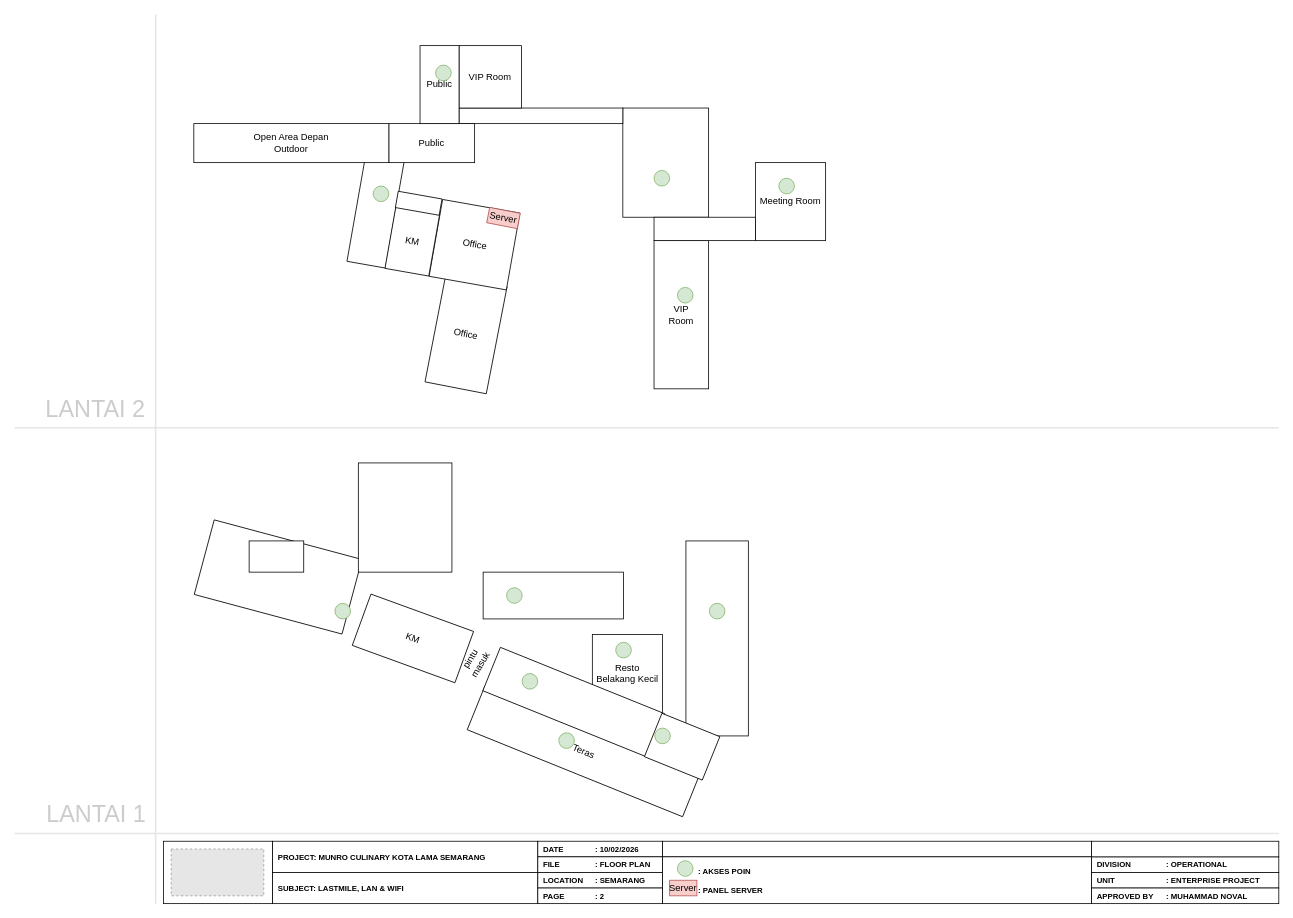
Image size: 1293x918. Some labels were removed from this diagram. Grey dashed boxes stand in for pictures. The shapes that lost their labels are listed below. From the top down, each one's box as (x1, y1, x2, y2) in pixels, then its label:
(622, 107, 709, 217): Resto Belakang
(346, 153, 404, 268): Indoor Depan
(395, 190, 442, 215): Lorong
(358, 462, 452, 572): Kitchen
(248, 540, 304, 572): Kasir CoffeeShop
(482, 571, 624, 619): Indoor Tengah
(685, 540, 748, 736): Resto Belakang Besar
(482, 646, 665, 757): Resto Luar
(644, 712, 720, 780): Bar
(662, 840, 1092, 857): LEGEND:
(1091, 840, 1279, 857): CREATED BY : HENOKH ZOE FAITH
